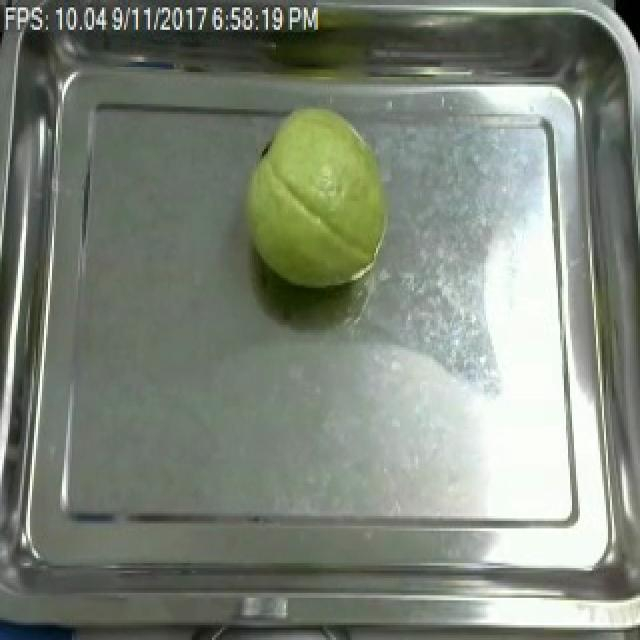Fruit: (236, 102, 400, 295)
